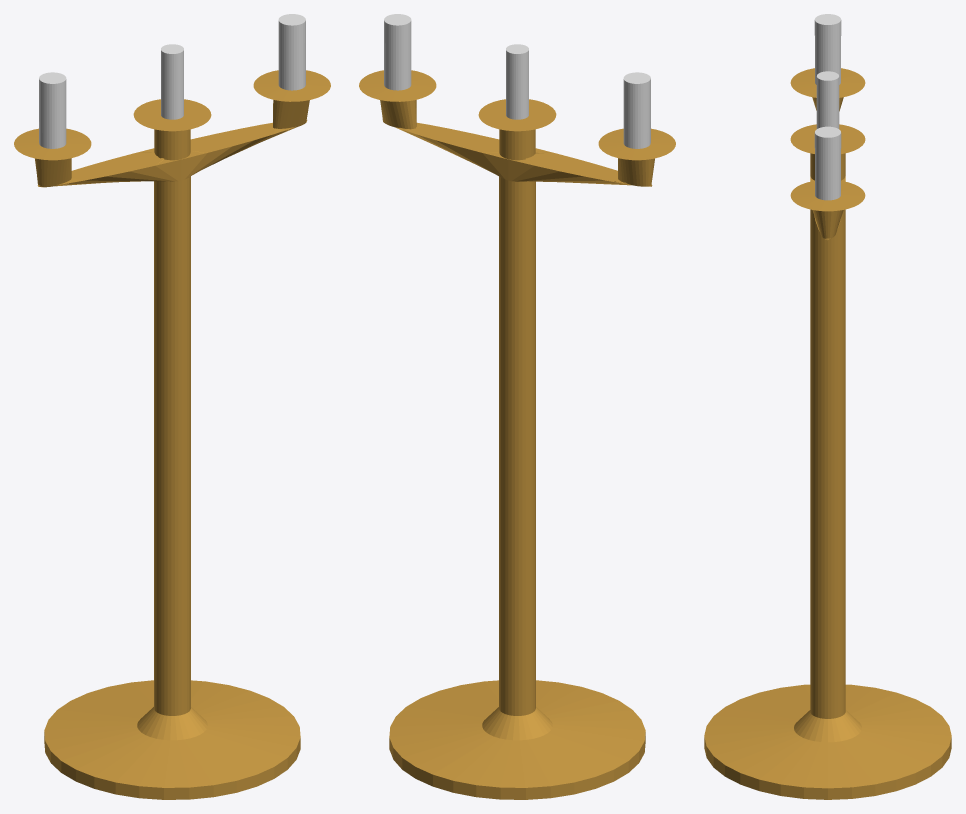
The model's file is candelabra.fbx.
3 views of the same model, side by side, from view 1: azimuth 30°, elevation 25°; view 2: azimuth 150°, elevation 25°; view 3: azimuth 270°, elevation 25° (orthographic). The views are drawn at different scales.
Visible parts, largest first — view 1: Cylinder; view 2: Cylinder; view 3: Cylinder.
Part boxes in pixels (x1,y1,x2,y2): Cylinder: (14, 14, 330, 799); Cylinder: (359, 14, 675, 799); Cylinder: (704, 14, 951, 799).
Size of the model in its own units: 276 by 599 by 200.
